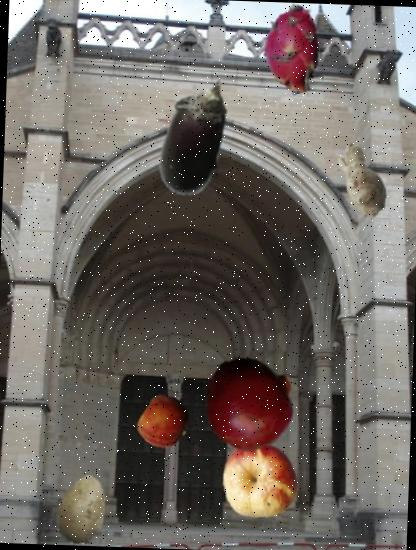Apple: (218, 440, 302, 522)
Eggplant: (130, 72, 259, 200)
Ginger: (321, 139, 404, 222)
Peach: (138, 396, 192, 450)
Pitahaya: (248, 4, 340, 96)
Pomegranate: (200, 354, 298, 452)
Potato: (46, 474, 118, 546)
